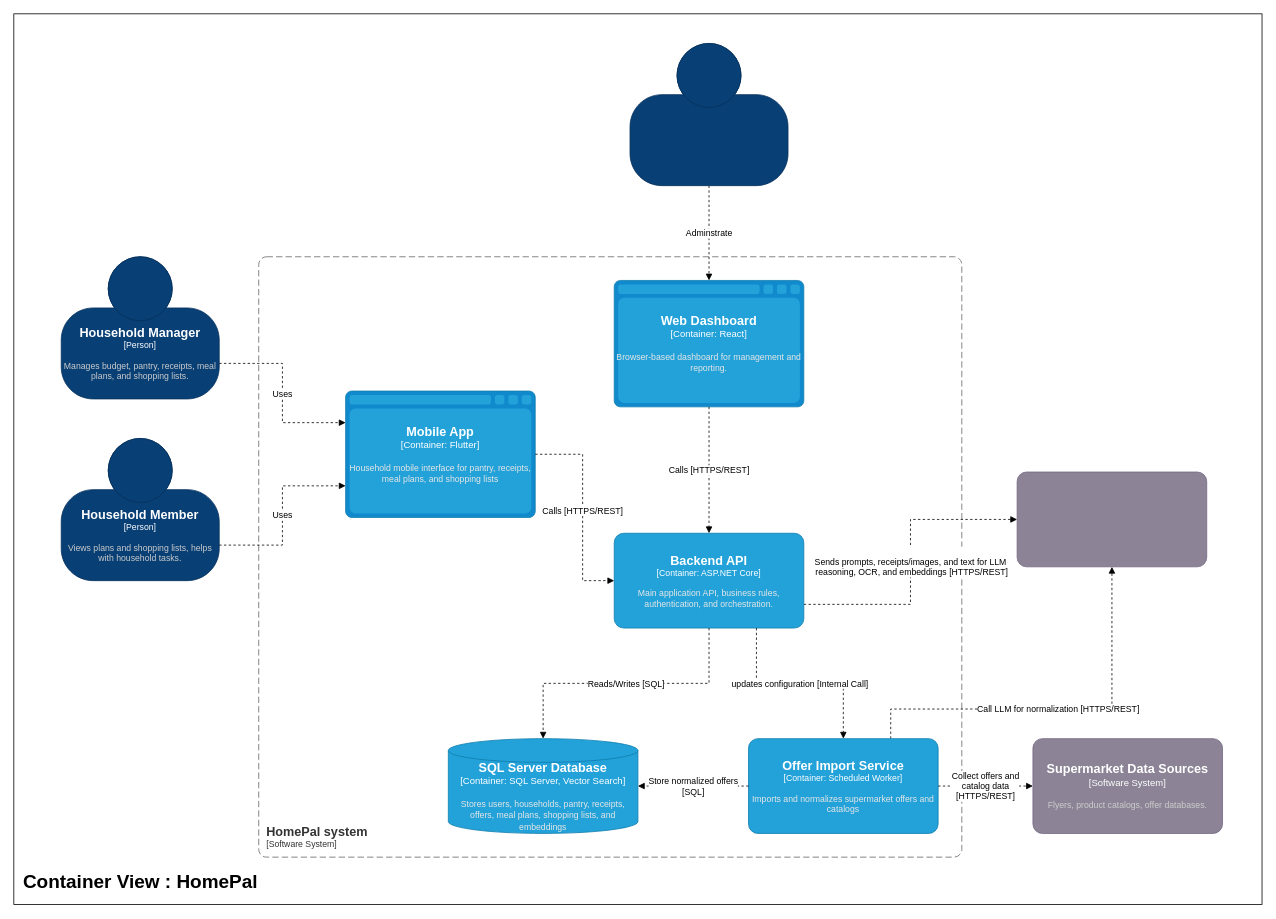
This 1276x919 diagram has some shape labels left out. The centre of each missing label's shape, as x and y in pixels:
"Admin [Person] Manages product data, retailer sources, and system monitoring." belongs at pixel 708 114.
"AI Services [Software System] LLM, Vision, Embeddings" belongs at pixel 1111 519.
